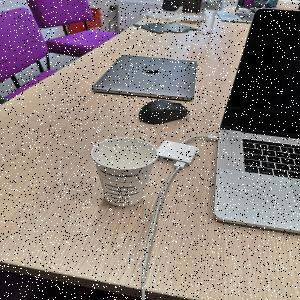Cup: (91, 138, 161, 210)
